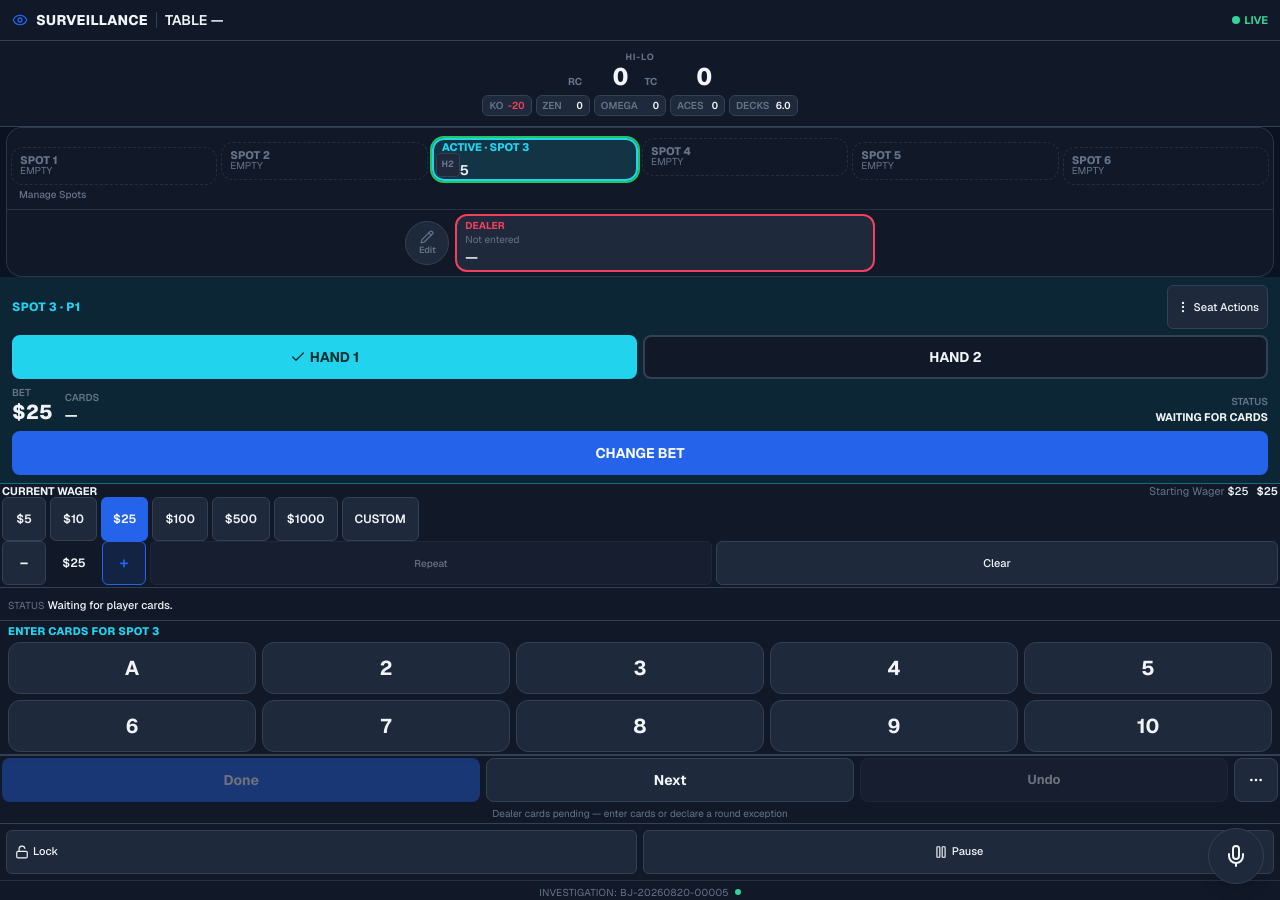
Test case: Split-hand UX — a split seat clearly shows both hands › selecting HAND 2 makes it the active target — the header and dialog both reflect it
Click the button with test id "select-hand-2" at (956, 357), box [643, 335, 1268, 379]
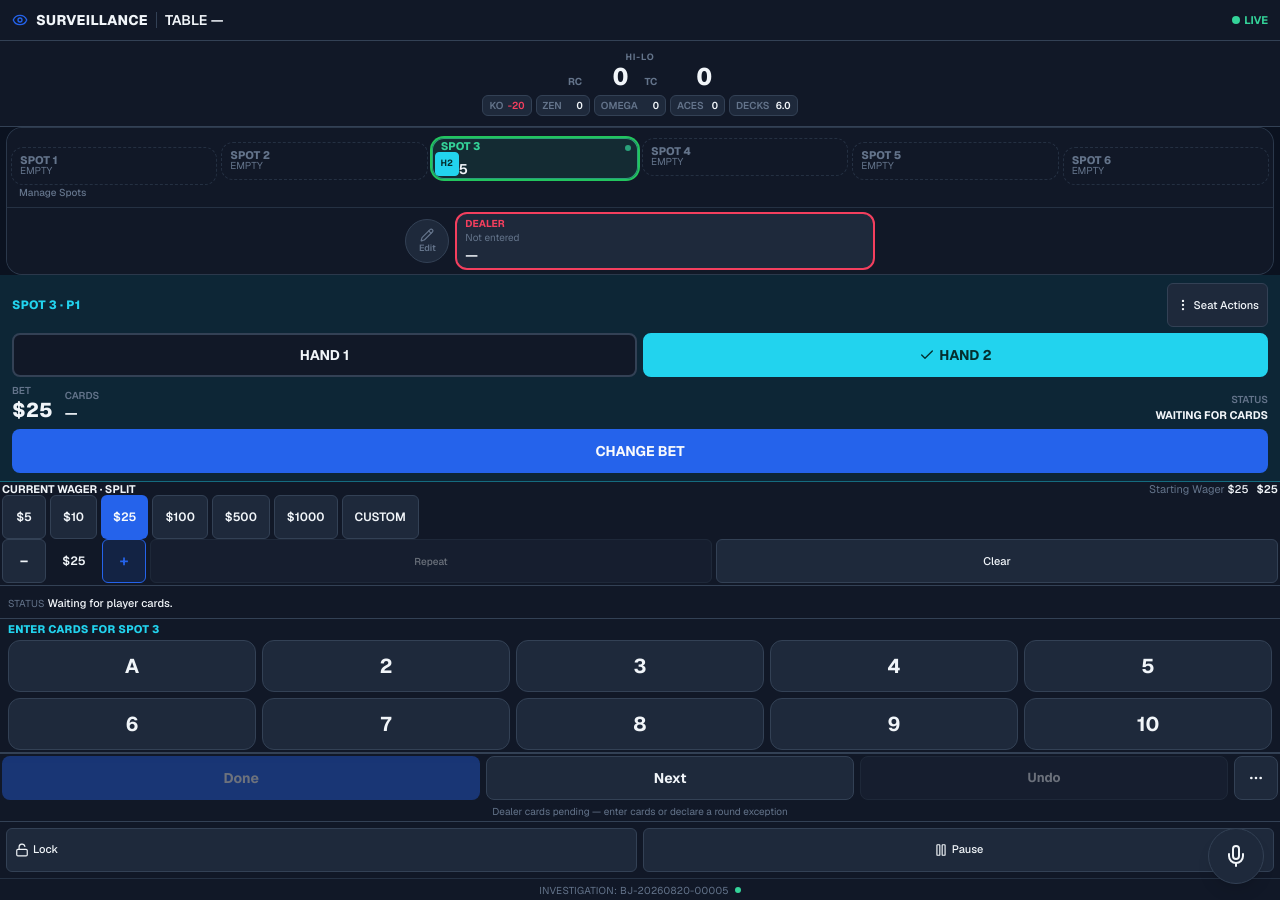
Check: the button with test id "select-hand-2" is pressed, box [643, 333, 1268, 377]
Check: the button with test id "select-hand-1" is not pressed, box [12, 333, 637, 377]
Click the button with test id "change-bet-button" at (640, 451), box [12, 429, 1268, 473]
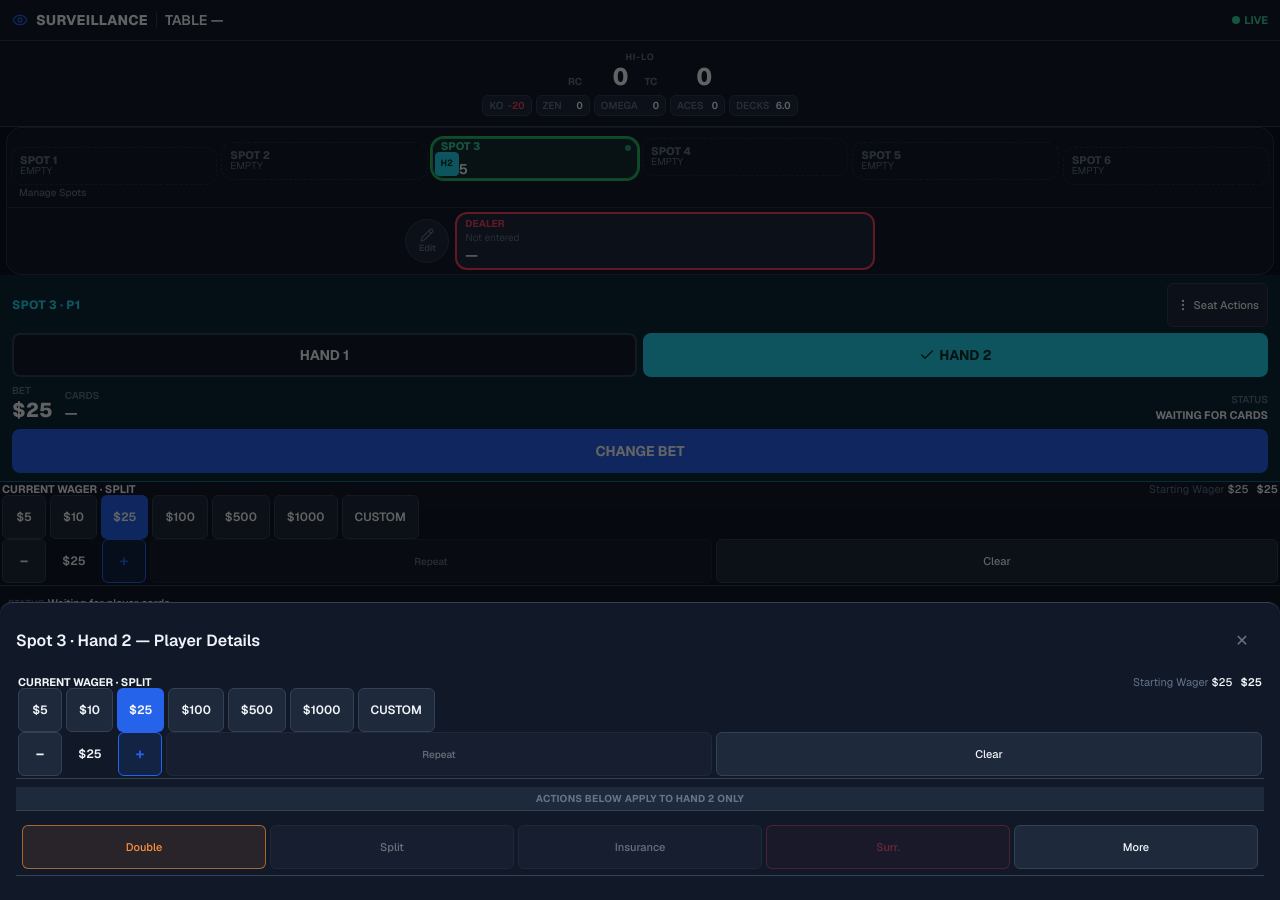
Check: the dialog "Spot 3 · Hand 2 — Player Details" is shown, box [0, 602, 1279, 899]
